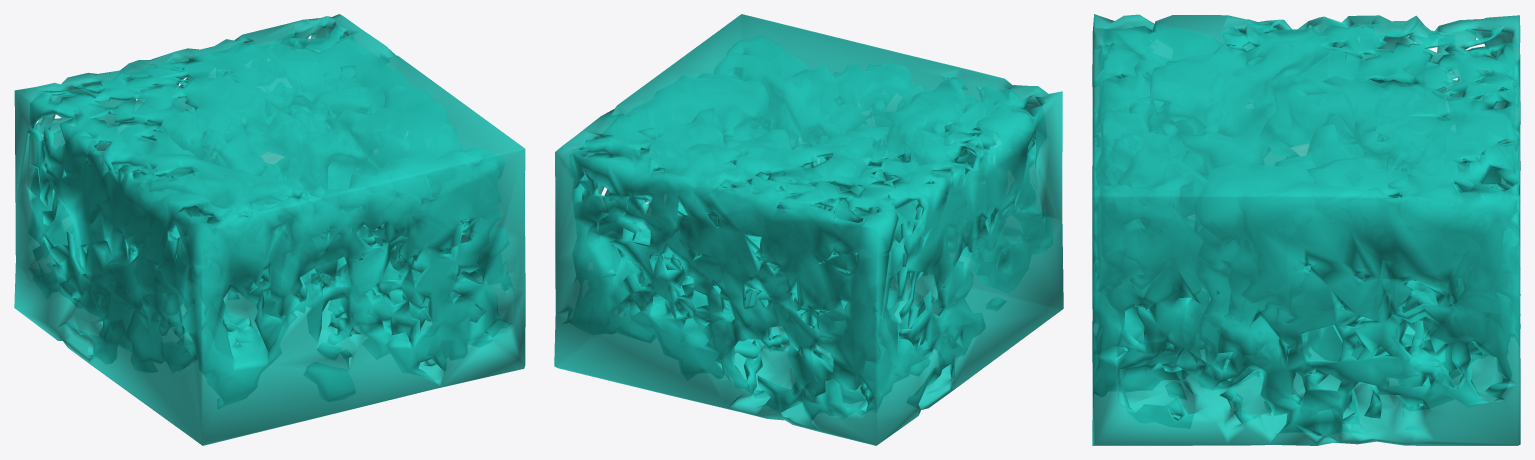
3 renders of one model, left to right at view 1: azimuth 30°, elevation 25°; view 2: azimuth 150°, elevation 25°; view 3: azimuth 270°, elevation 25°, orthographic. The views are drawn at different scales.
Visible parts, largest first — view 1: Liquid_Domain; view 2: Liquid_Domain; view 3: Liquid_Domain.
Boxes of the visible parts, left/top/right/bottom form: Liquid_Domain: left=14, top=14, right=525, bottom=445; Liquid_Domain: left=554, top=14, right=1063, bottom=445; Liquid_Domain: left=1092, top=14, right=1520, bottom=445.
Bounding box in the file's own units: 392 × 254 × 391.
